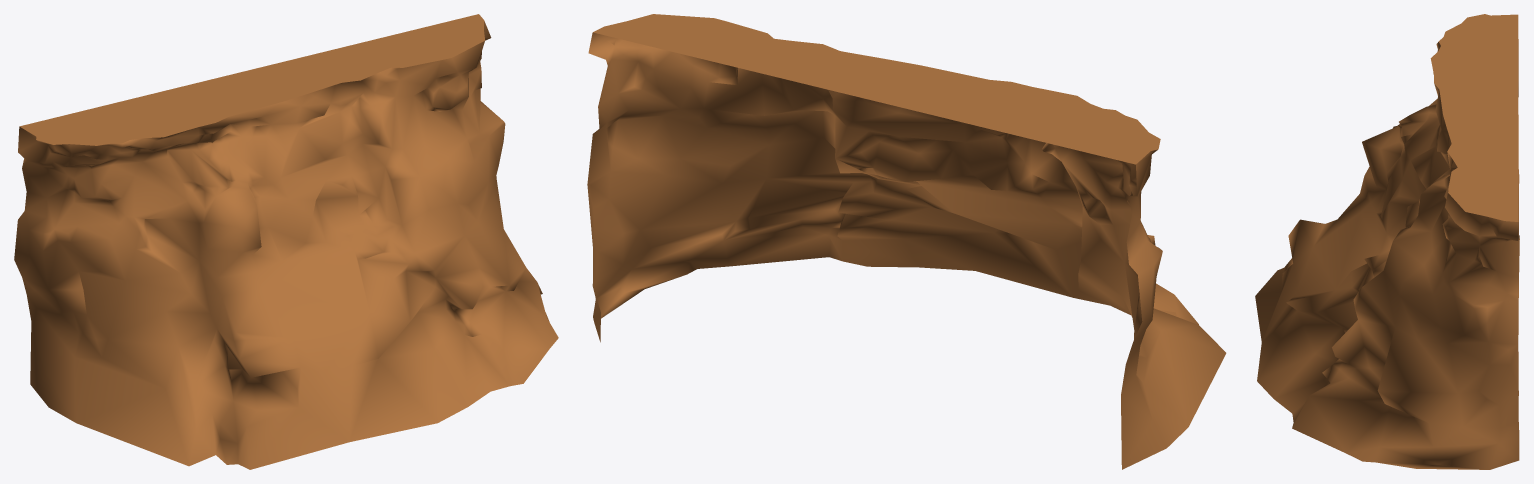
Rendered from Cliff_Wall06.FBX.
3 views of the same model, side by side, from view 1: azimuth 30°, elevation 25°; view 2: azimuth 150°, elevation 25°; view 3: azimuth 270°, elevation 25° (orthographic). The views are drawn at different scales.
Visible parts, largest first — view 1: Cliff_Wall06; view 2: Cliff_Wall06; view 3: Cliff_Wall06.
Part boxes in pixels (bbox=[...]): Cliff_Wall06: bbox=[14, 14, 558, 469]; Cliff_Wall06: bbox=[587, 14, 1226, 469]; Cliff_Wall06: bbox=[1255, 14, 1519, 469].
Bounding box in the file's own units: 3262 × 1678 × 1667.
